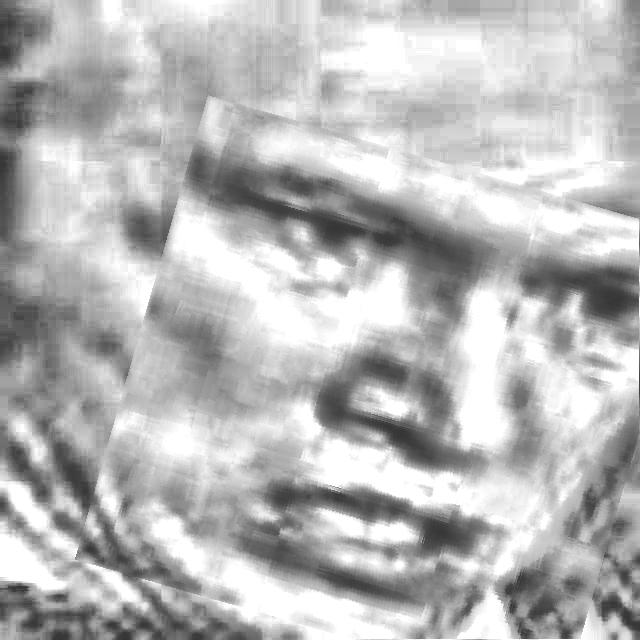angry: (103, 125, 640, 640)
